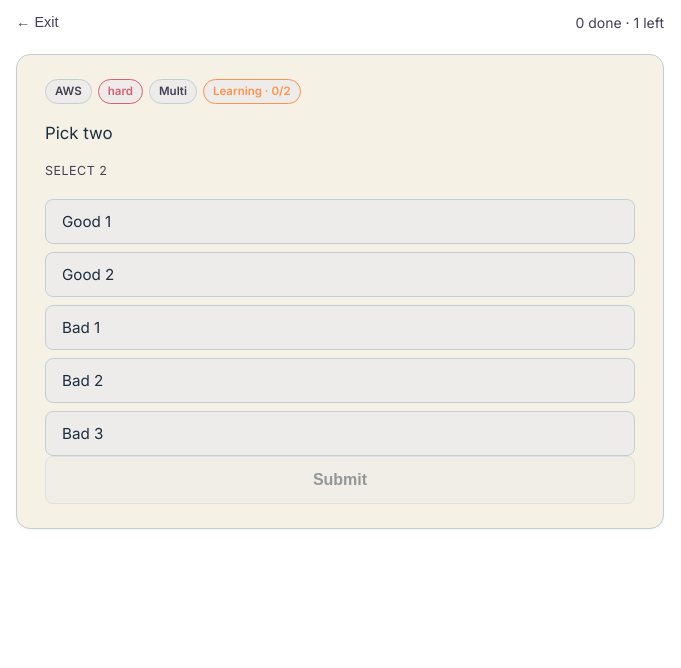
Test: MRCard › wrong submission flags the wrong pick and still highlights all answers
Click the button "Good 1": (87, 221) [45,199,635,244]
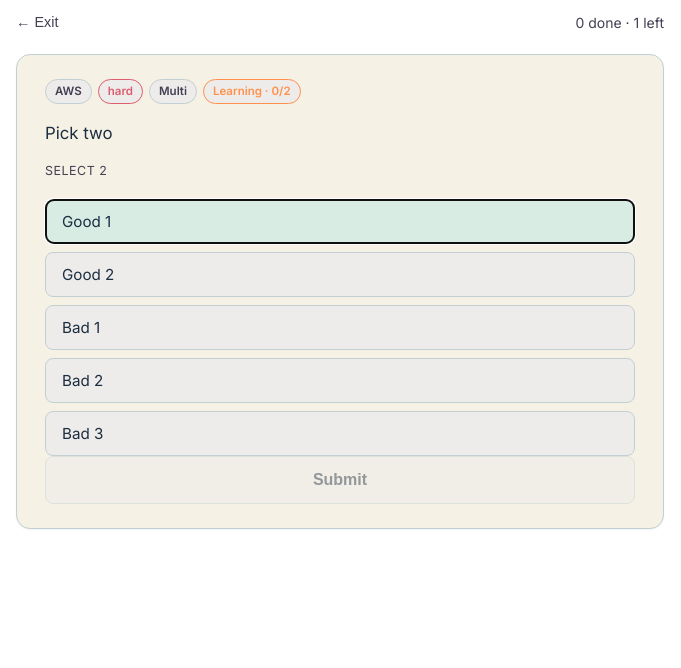
Click the button "Bad 1": (81, 327) [45,305,635,350]
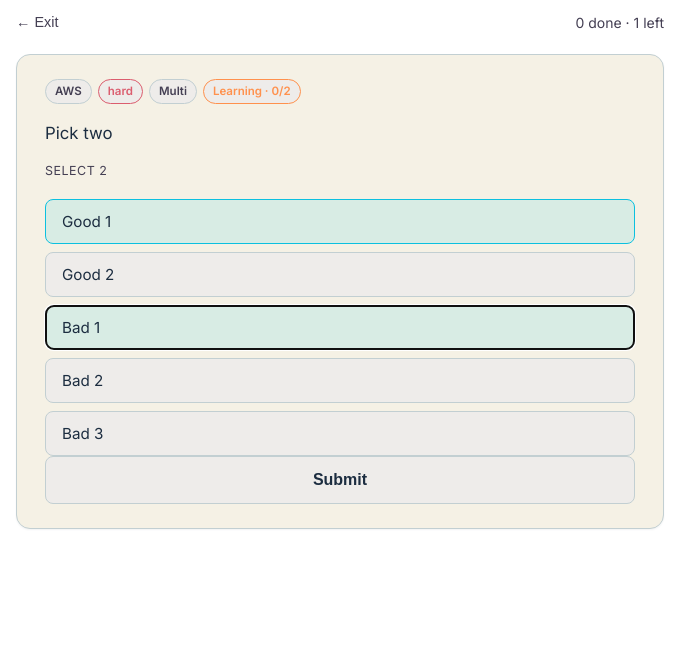
Click the button "Submit": (340, 480) [45,456,635,504]
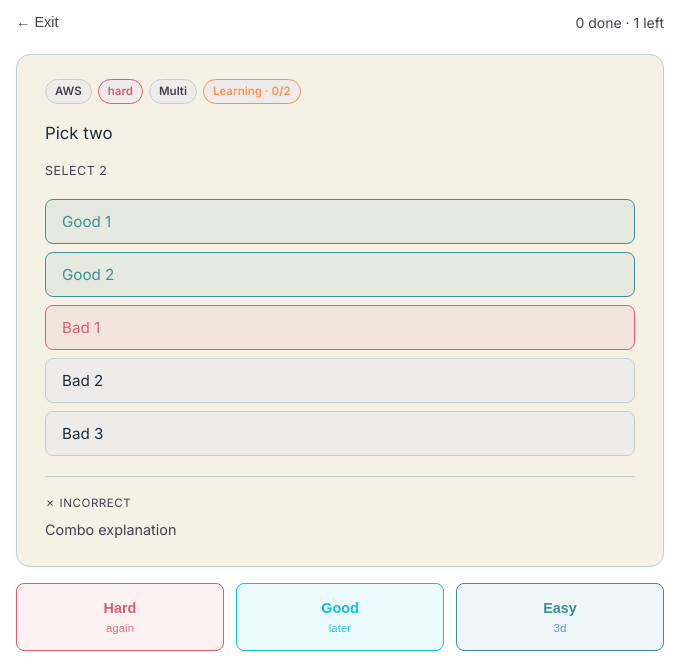
Expected: the text "✗ Incorrect" is shown, [45,496,131,510]
